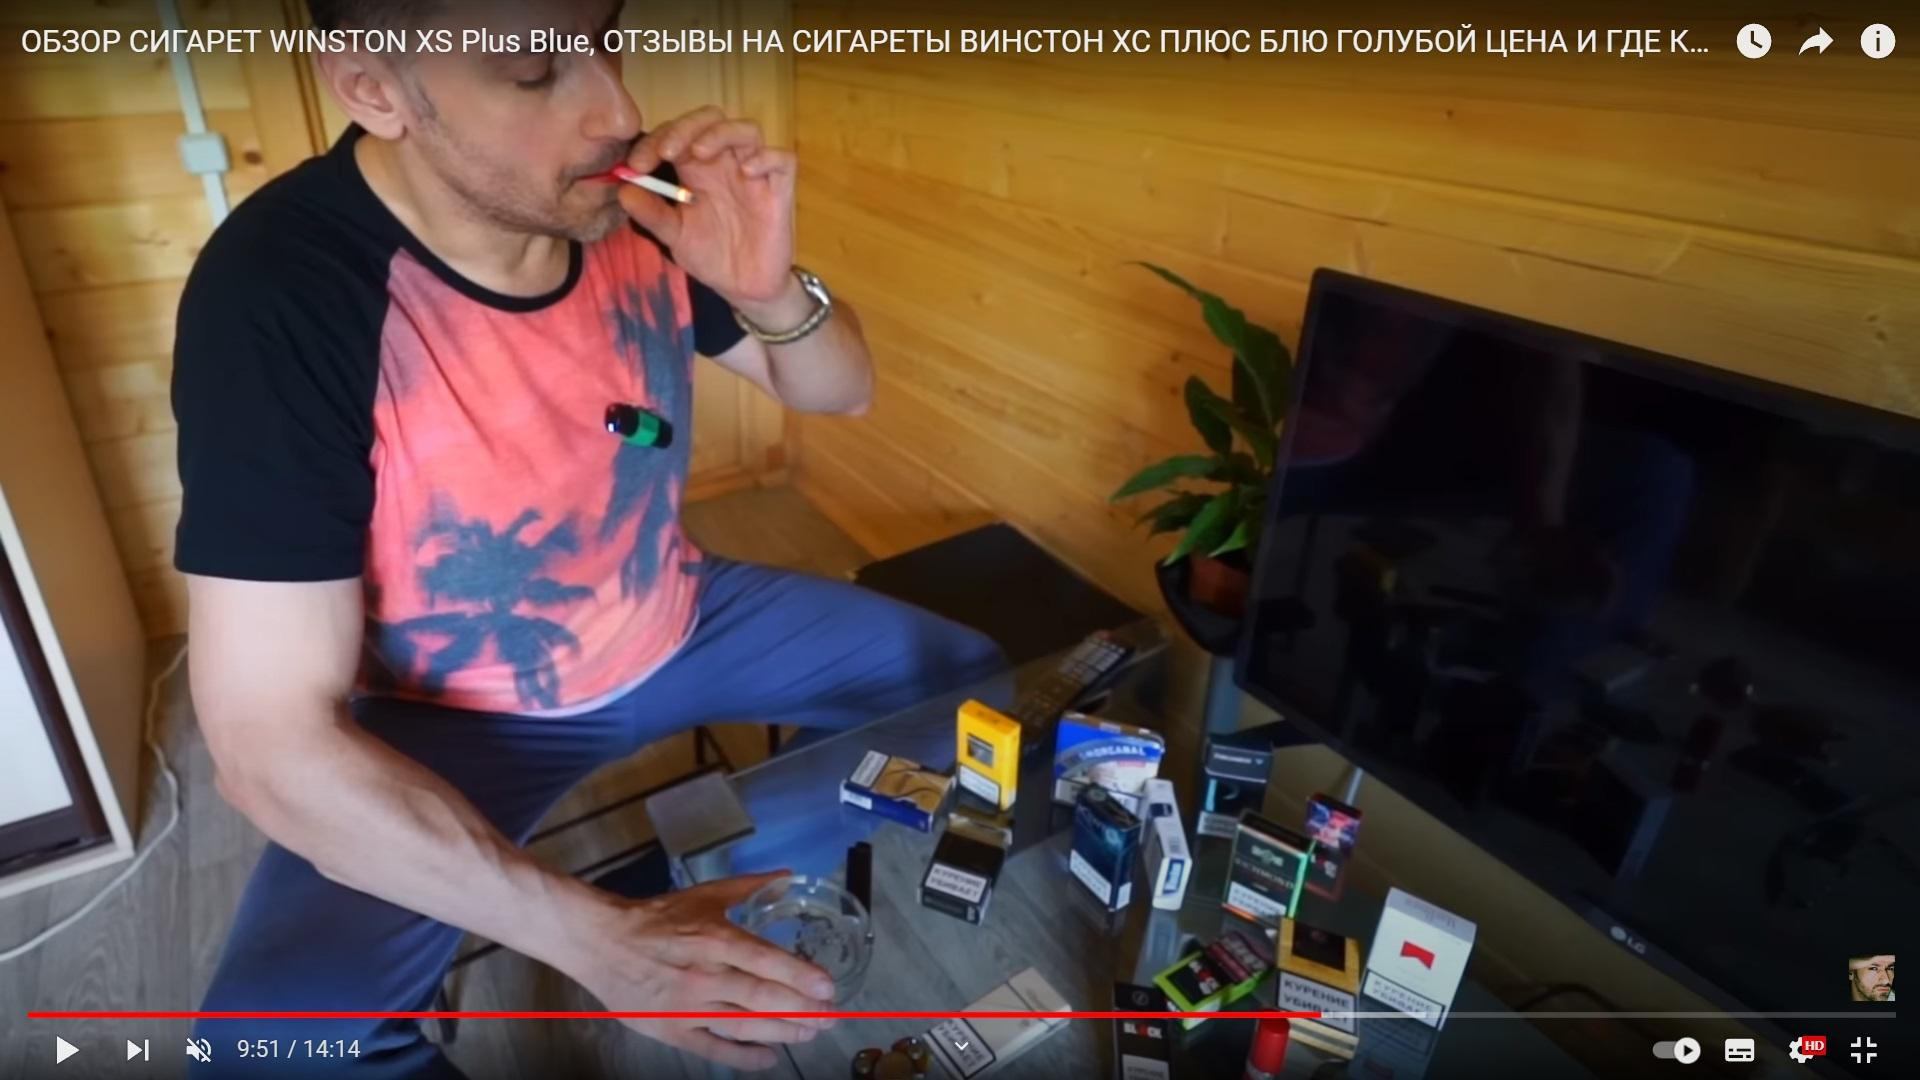cigarette: (609, 164, 698, 204)
